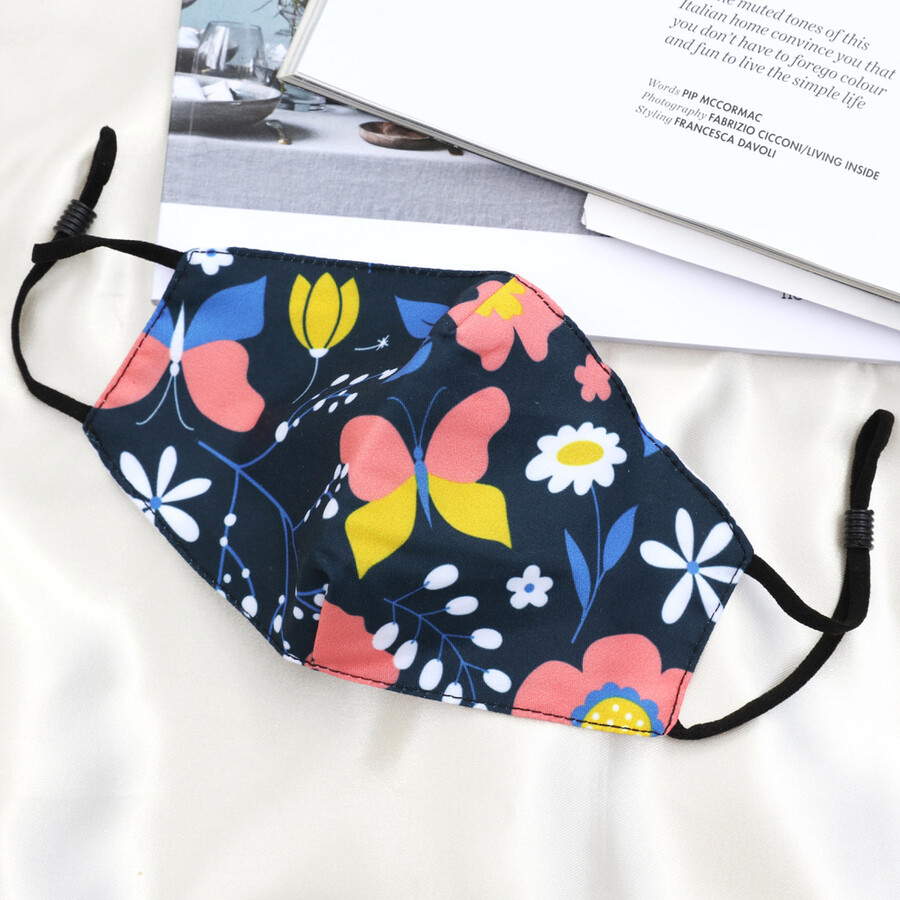mask: (9, 106, 900, 786)
